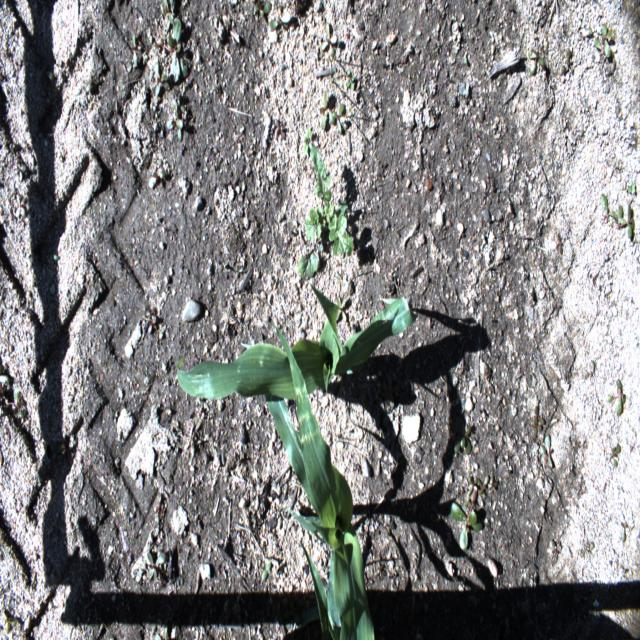crop: (269, 317, 376, 636), (174, 289, 416, 400)
weed: (296, 131, 357, 284), (449, 469, 489, 551), (598, 191, 636, 242), (164, 5, 188, 78), (586, 24, 616, 64), (320, 92, 346, 138), (165, 95, 188, 143), (452, 416, 476, 460), (141, 547, 169, 583), (608, 378, 632, 418), (318, 19, 338, 64), (605, 441, 631, 475), (263, 6, 295, 33), (539, 423, 555, 477), (12, 371, 29, 416), (526, 46, 552, 74), (3, 597, 20, 636), (549, 532, 566, 568), (131, 29, 144, 76), (530, 403, 547, 438), (141, 306, 161, 334), (255, 551, 273, 582), (151, 64, 169, 95), (14, 156, 31, 188), (560, 37, 576, 71), (9, 196, 32, 218), (343, 62, 358, 95), (46, 243, 61, 271), (620, 512, 632, 546), (619, 175, 637, 197)
